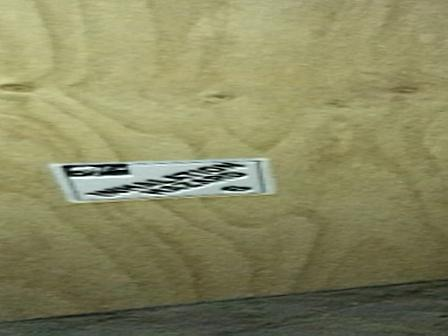poison: (54, 149, 284, 211)
